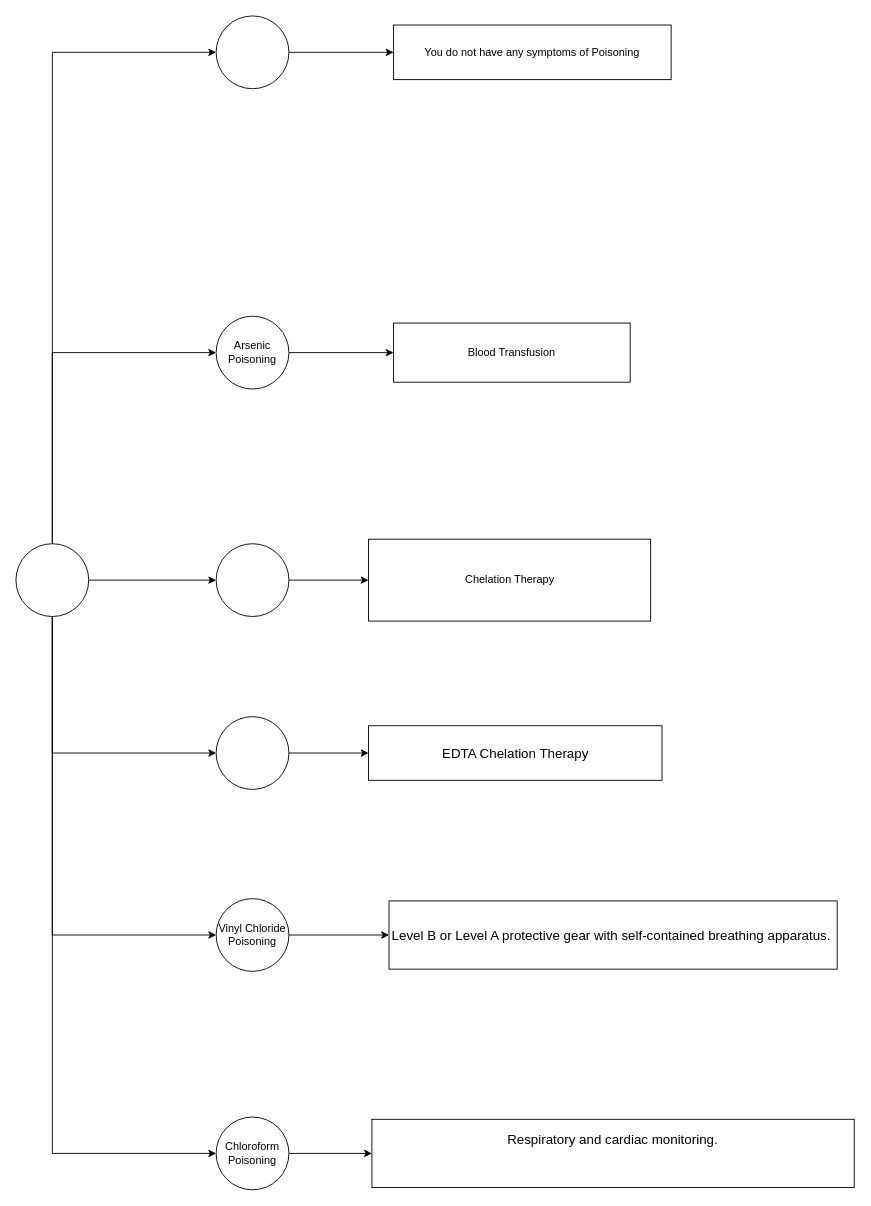
Some shapes in this 871 by 1206 pixel diagram are drawn without their labels. The centre of each missing label's shape, as x and y in pixels:
"Lead Poisoning" goes at point (252, 752).
"Mercury Poisoning" goes at point (252, 580).
"No Prime Symptoms of Poisoning" goes at point (252, 52).
"What is the diagnosed poison?" goes at point (52, 580).
